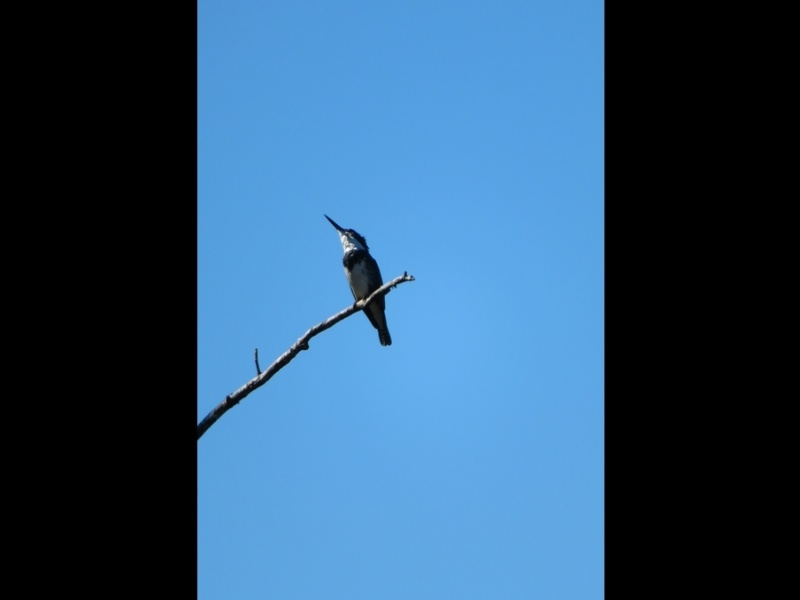kingfisher: (323, 211, 397, 349)
